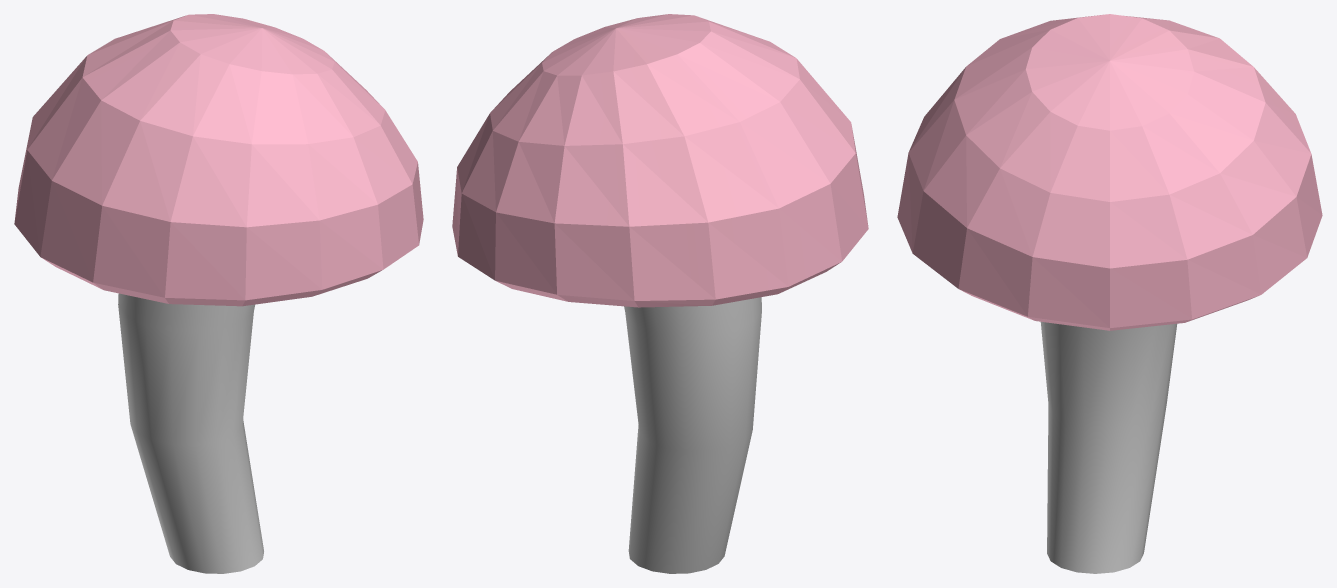
Rendered from champirose.FBX.
The picture shows the model from 3 angles, left to right: view 1: azimuth 30°, elevation 25°; view 2: azimuth 150°, elevation 25°; view 3: azimuth 270°, elevation 25°; orthographic projection. The views are drawn at different scales.
Visible parts, largest first — view 1: Sphere001; view 2: Sphere001; view 3: Sphere001.
Part boxes in pixels (x1,y1,x2,y2): Sphere001: [14, 14, 423, 573]; Sphere001: [452, 14, 868, 573]; Sphere001: [897, 14, 1322, 573].
Size of the model in its own units: 46.44 by 63.99 by 47.01.
